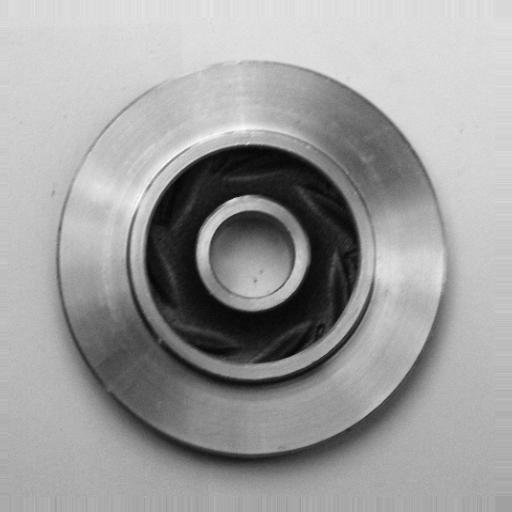unpolished_casting: (55, 58, 448, 467)
